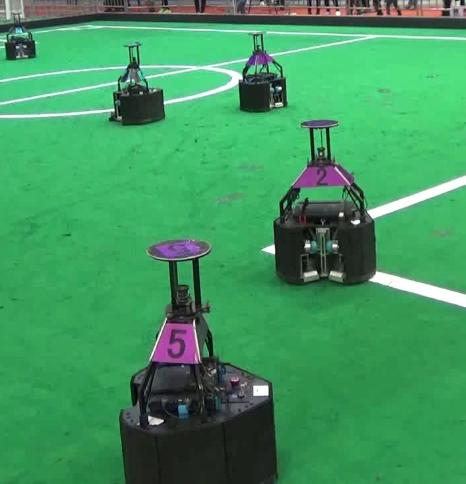robot: (105, 236, 279, 484), (262, 115, 387, 288), (100, 38, 173, 128), (234, 28, 297, 114)
